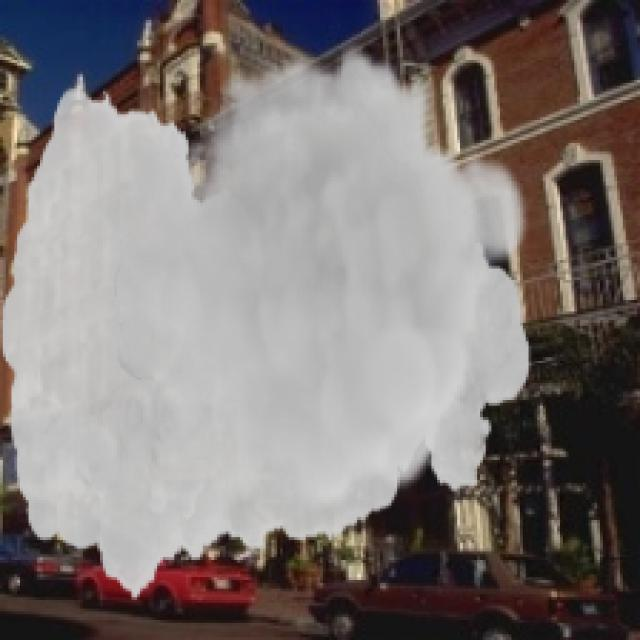smoke: (0, 43, 532, 604)
